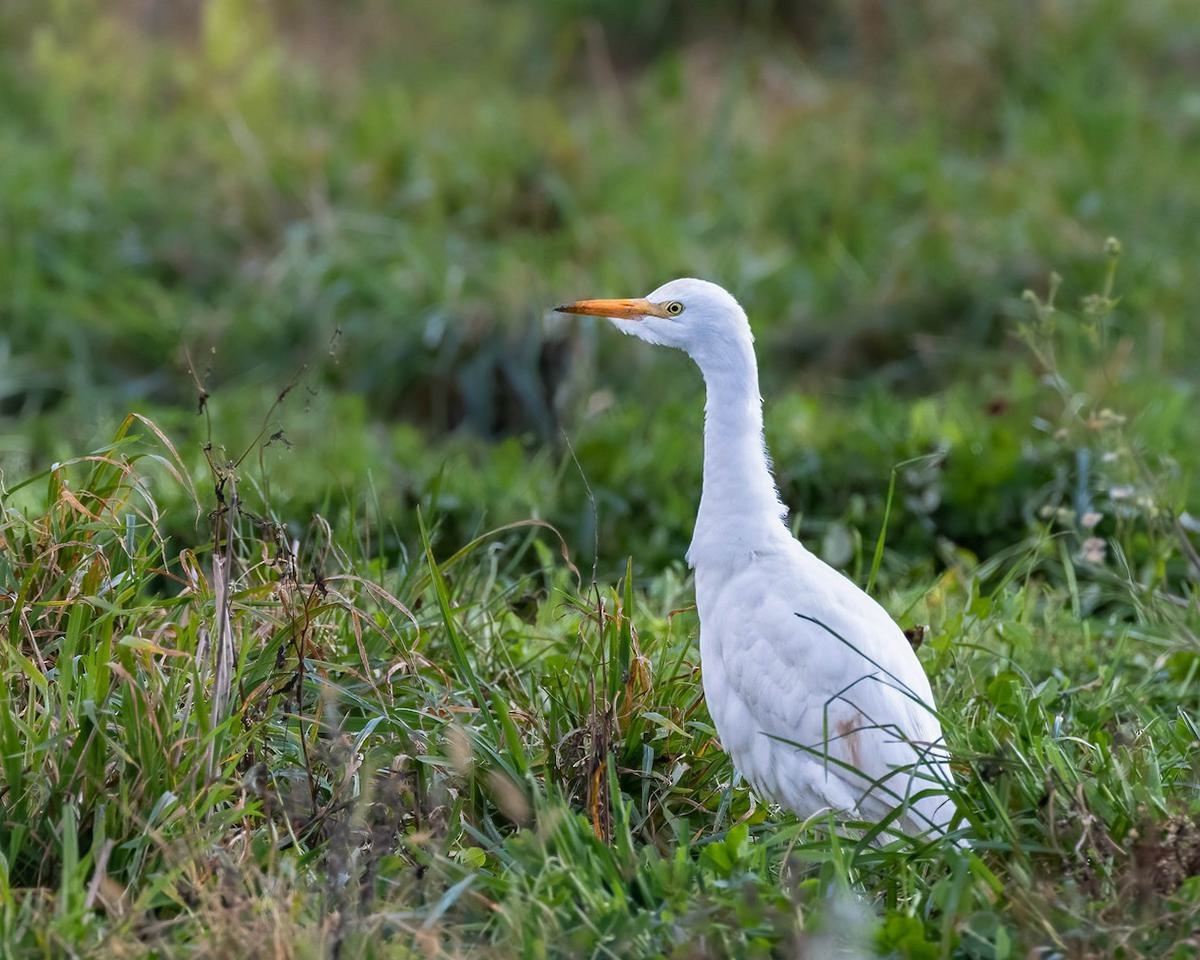egret: (575, 259, 987, 921)
